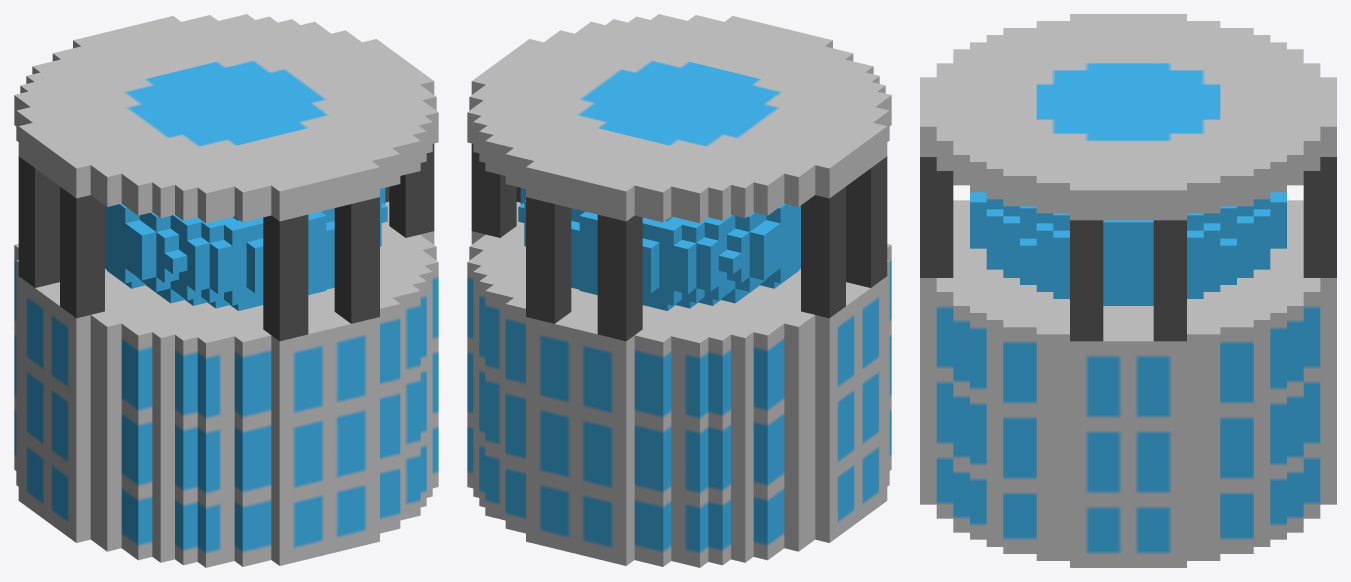
The model's file is TwentyOneModel.fbx.
3 views of the same model, side by side, from view 1: azimuth 30°, elevation 25°; view 2: azimuth 150°, elevation 25°; view 3: azimuth 270°, elevation 25° (orthographic).
Parts seen in each view (by area): view 1: Cylinder; view 2: Cylinder; view 3: Cylinder.
Part boxes in pixels (box(x1,y1,x2,y2)): Cylinder: box(14, 14, 438, 567); Cylinder: box(467, 14, 891, 567); Cylinder: box(920, 14, 1336, 567).
Bounding box in the file's own units: 25 × 25 × 25.
1 material, 1 textured.
